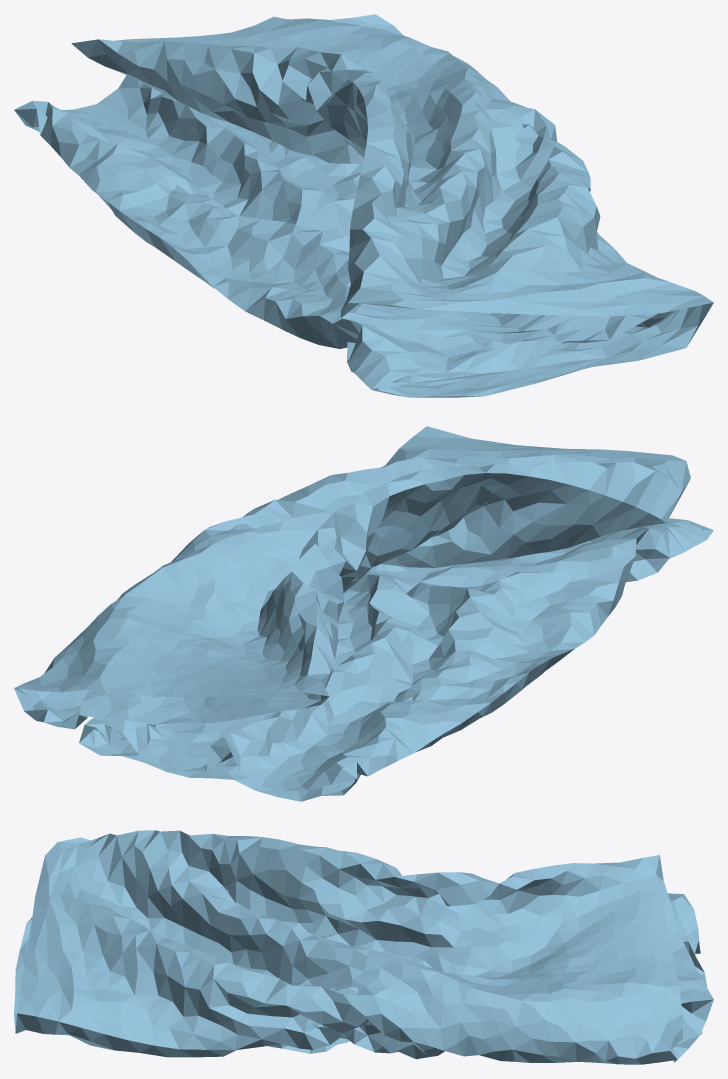
The model's file is frame_19.glb.
The picture shows the model from 3 angles, top to bottom: view 1: azimuth 30°, elevation 25°; view 2: azimuth 150°, elevation 25°; view 3: azimuth 270°, elevation 25°; orthographic projection. The views are drawn at different scales.
Parts seen in each view (by area): view 1: frame_19.obj; view 2: frame_19.obj; view 3: frame_19.obj.
Boxes of the visible parts, <box> form: frame_19.obj: <box>14,14,713,397</box>; frame_19.obj: <box>14,426,713,801</box>; frame_19.obj: <box>14,830,713,1064</box>.
Size of the model in its own units: 0.8346 by 0.3437 by 1.5.
